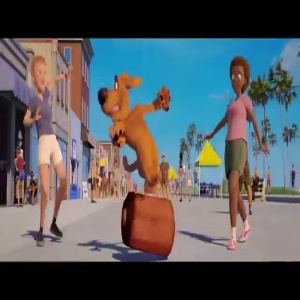Scooby: (94, 70, 146, 122)
